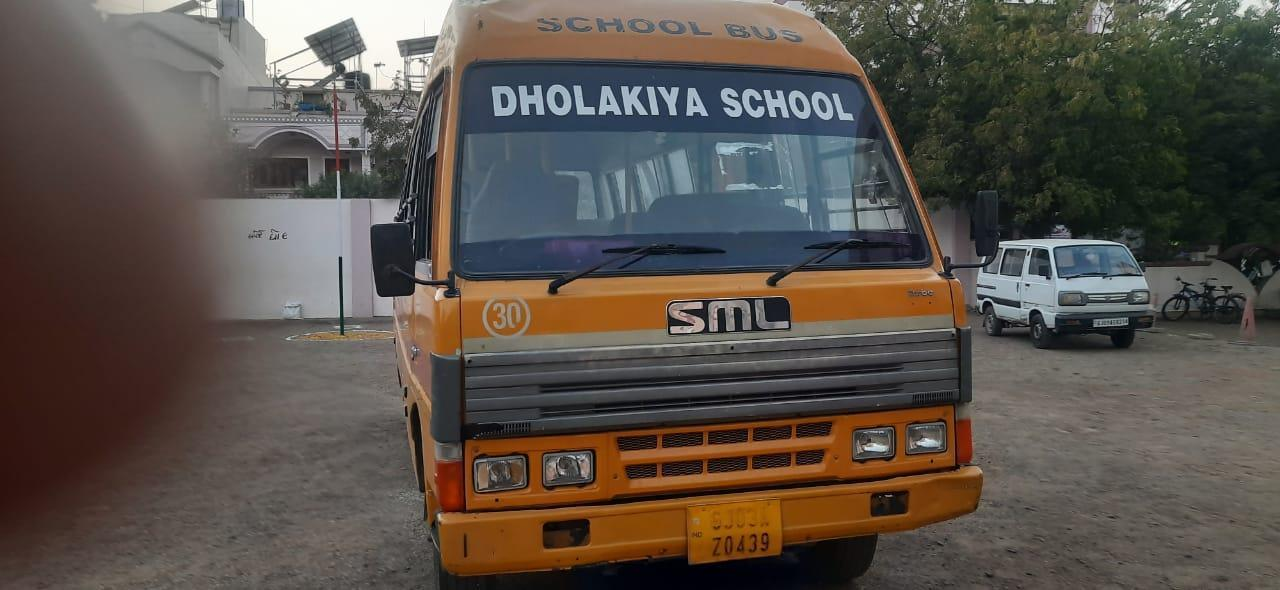Bus: (367, 2, 1011, 585)
